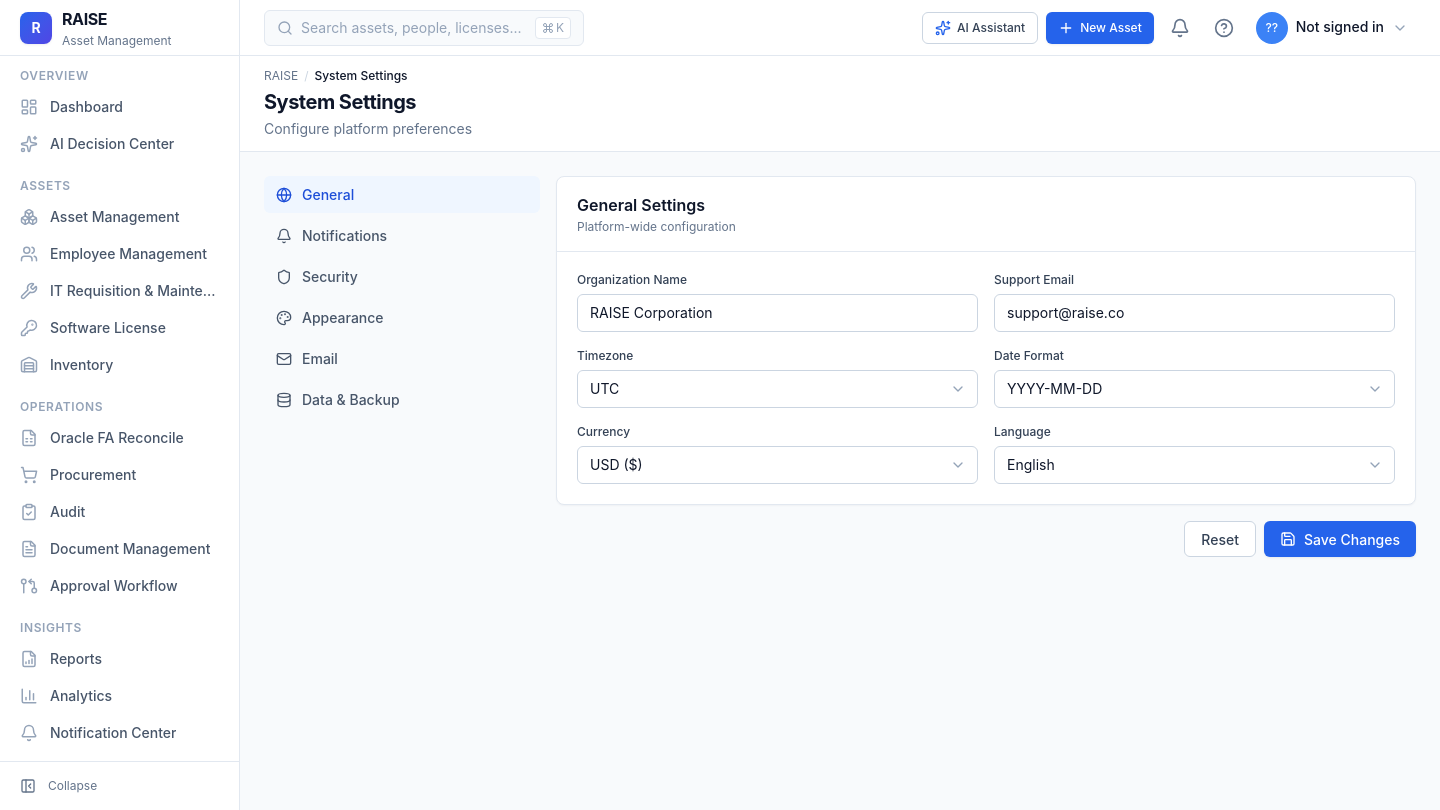
Test case: SettingsPage › saving a change persists it (Save Changes actually mutates, unlike the legacy toast-only button)
Replace the text in the field showing "RAISE Corporation" below "Organization Name" with "Acme Corp" at [778, 313], box top-left (577, 294), bottom-right (978, 332)
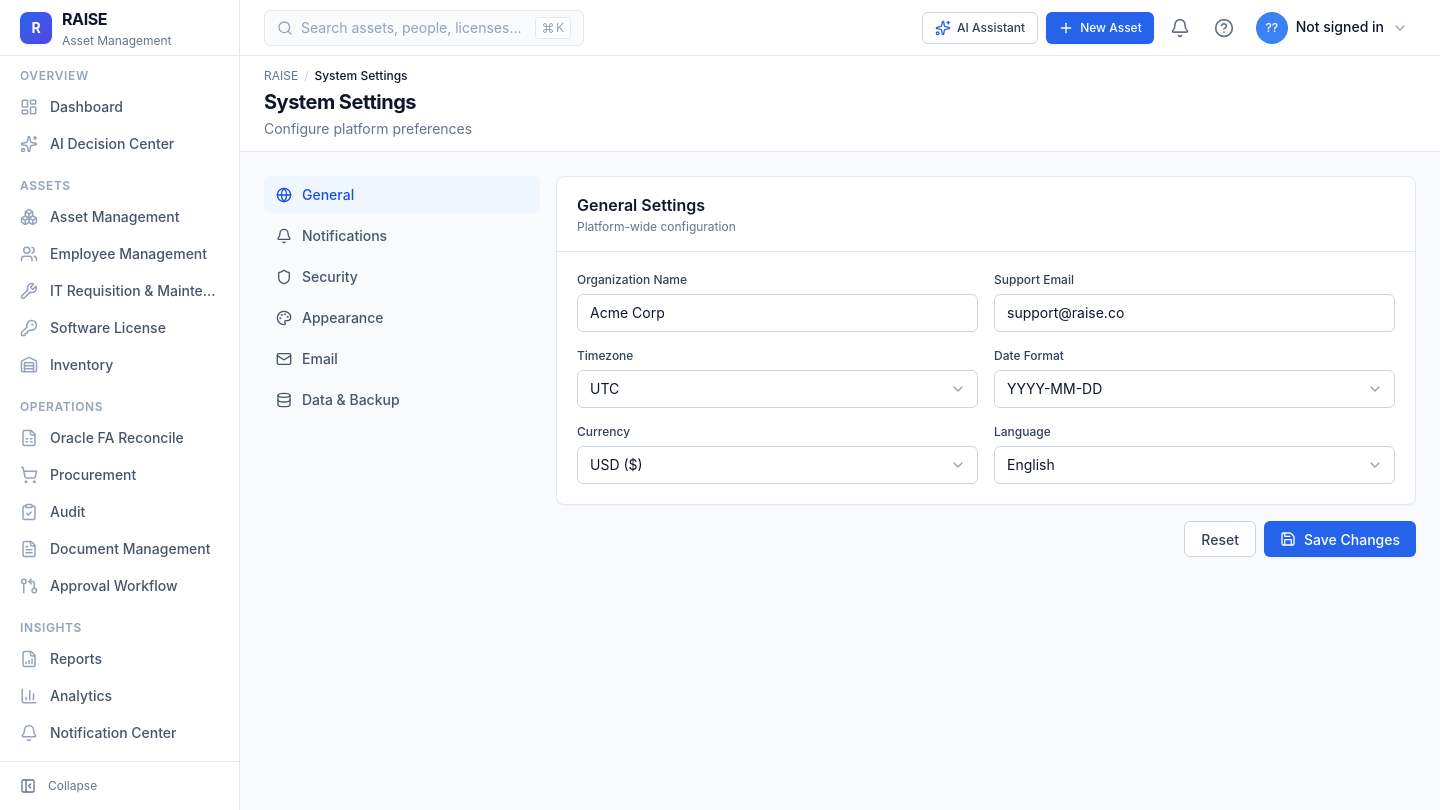
Click the button "Save Changes" at [1340, 539], box top-left (1264, 521), bottom-right (1416, 557)
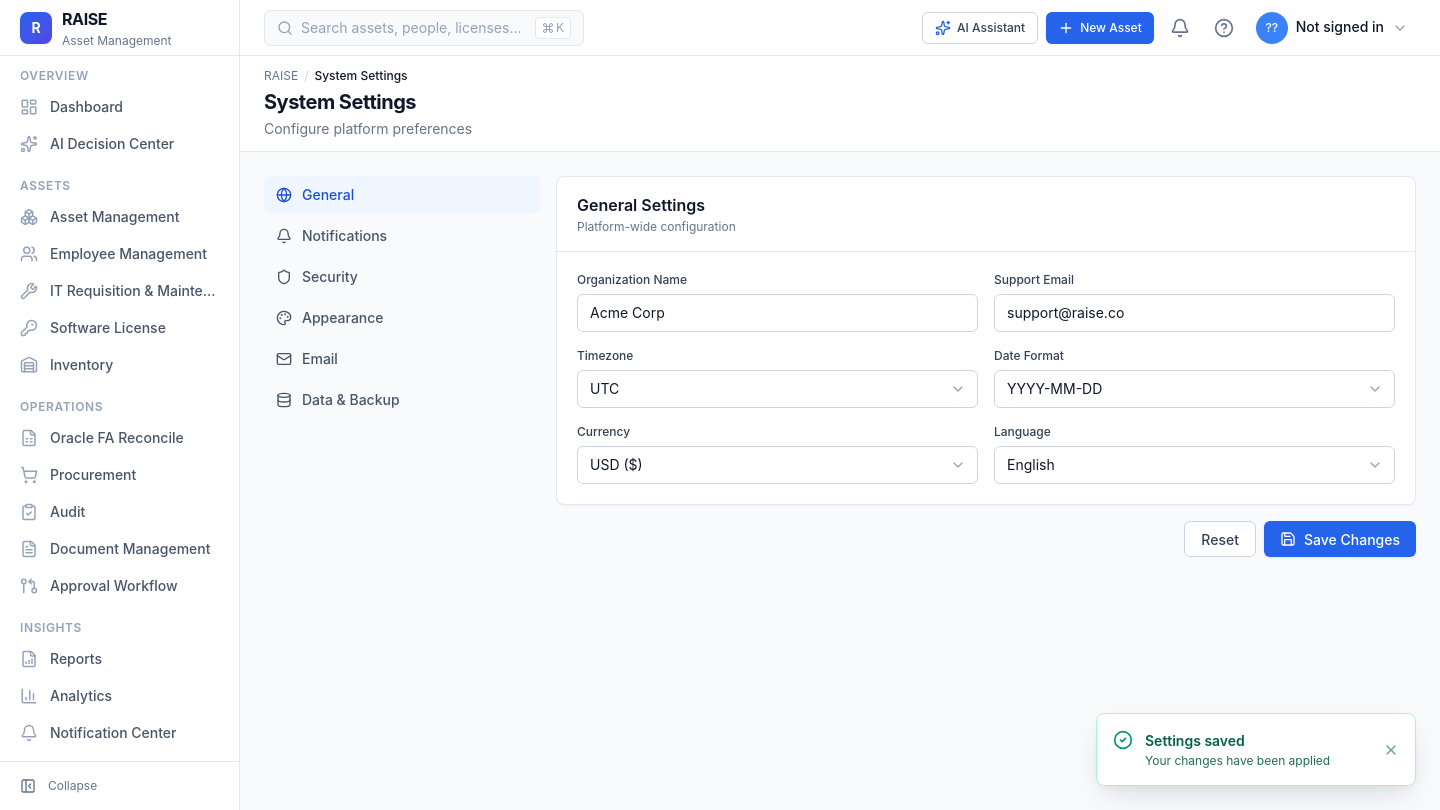
Expected: the text "Settings saved" is shown, top-left (1145, 732), bottom-right (1245, 749)
